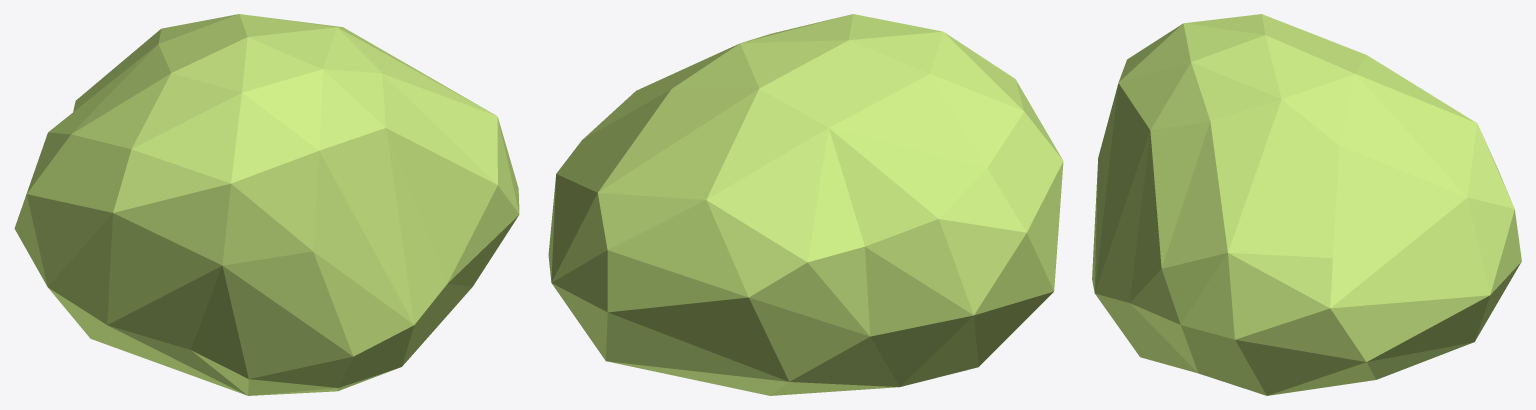
Rendered from Bush_a_l_05.fbx.
The picture shows the model from 3 angles, left to right: view 1: azimuth 30°, elevation 25°; view 2: azimuth 150°, elevation 25°; view 3: azimuth 270°, elevation 25°; orthographic projection. The views are drawn at different scales.
Visible parts, largest first — view 1: Bush_a_l_05; view 2: Bush_a_l_05; view 3: Bush_a_l_05.
Boxes of the visible parts, x1,y1,x2,y2 form: Bush_a_l_05: [14, 14, 519, 395]; Bush_a_l_05: [548, 14, 1063, 395]; Bush_a_l_05: [1092, 14, 1521, 395].
Size of the model in its own units: 336 by 238 by 294.
